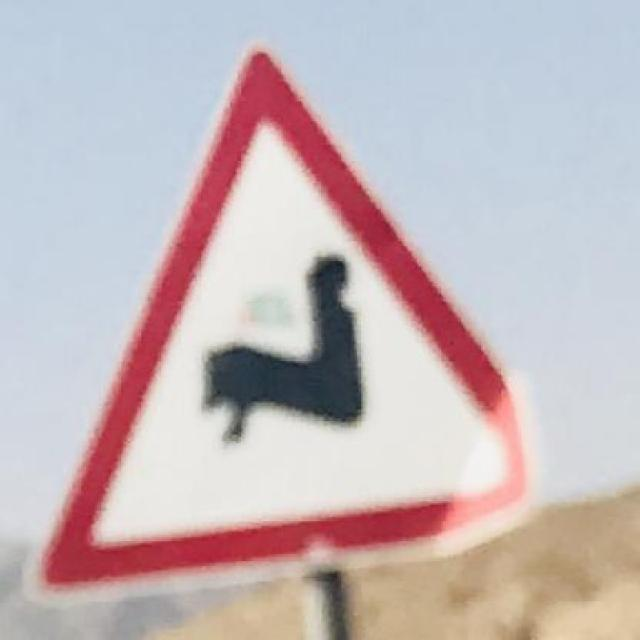right reverse bend: (20, 39, 549, 595)
